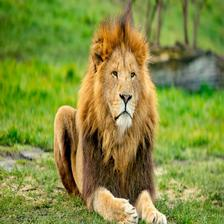Lion: (59, 13, 166, 224)
